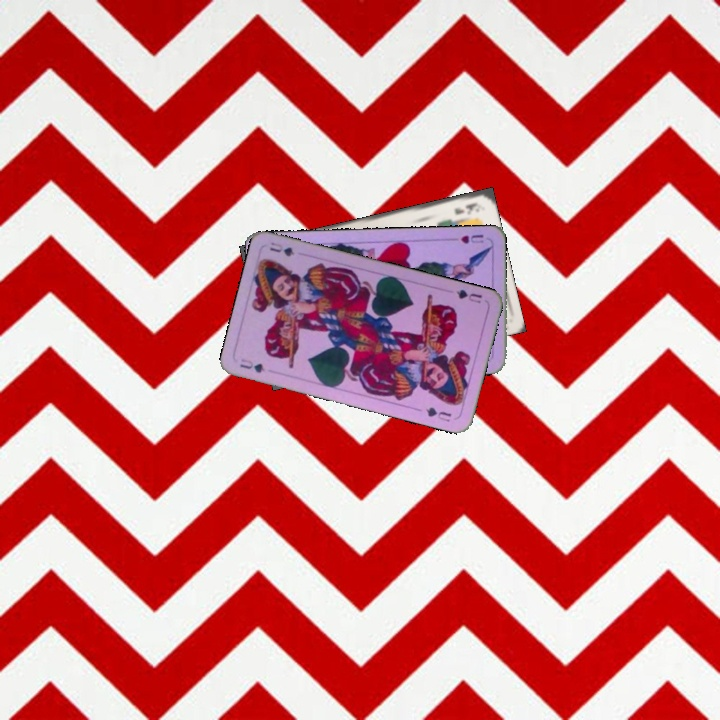EK: (451, 199, 480, 218)
GU: (450, 285, 485, 306), (236, 355, 267, 375)
HU: (457, 230, 486, 246)
